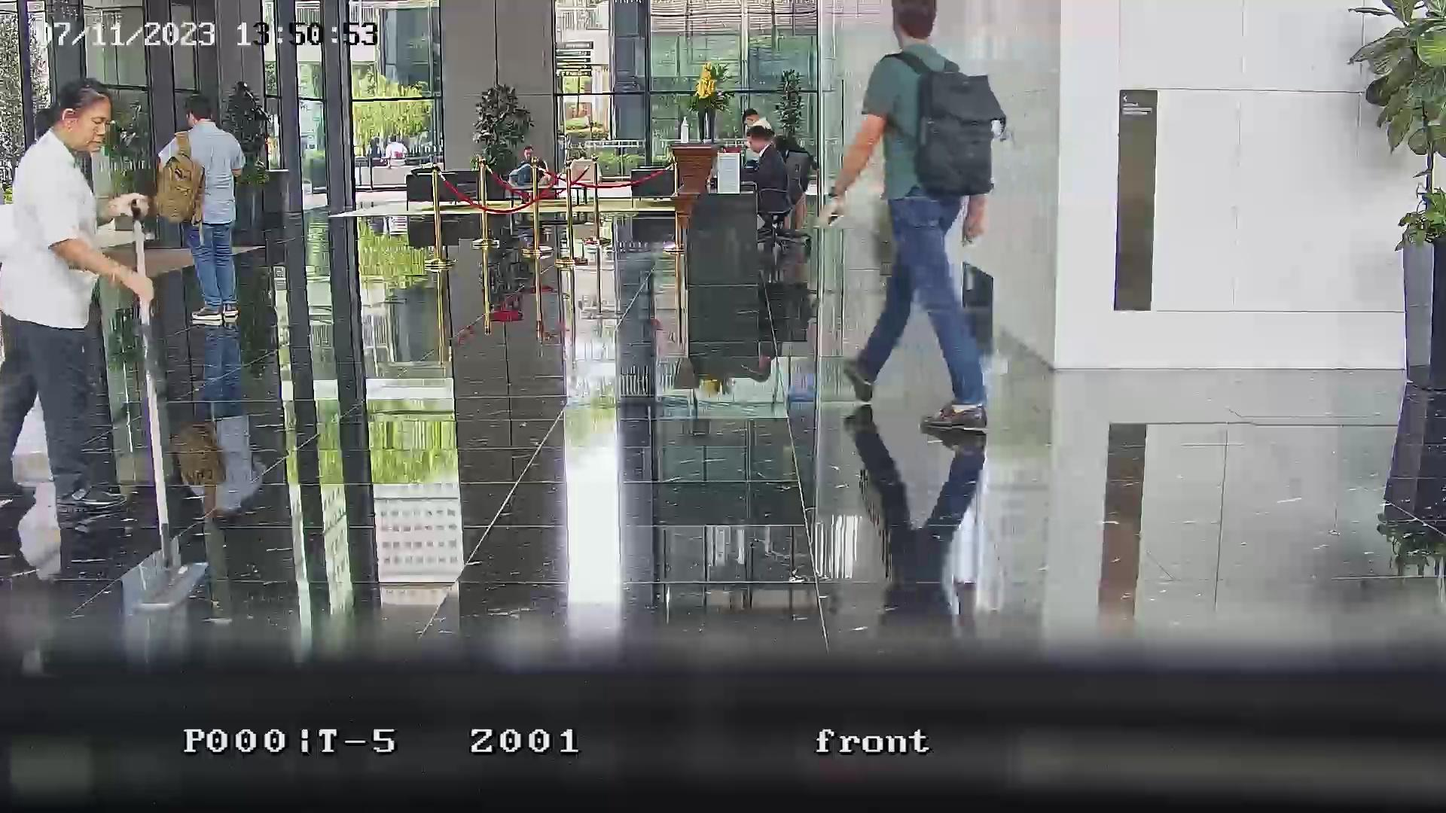person: (823, 0, 1003, 428), (0, 80, 156, 537), (159, 91, 246, 319), (742, 126, 792, 233), (505, 144, 546, 184), (738, 106, 772, 152), (387, 134, 408, 166), (367, 136, 382, 166)
